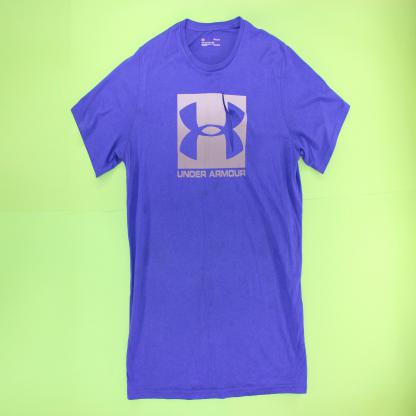hole: (221, 91, 235, 155)
